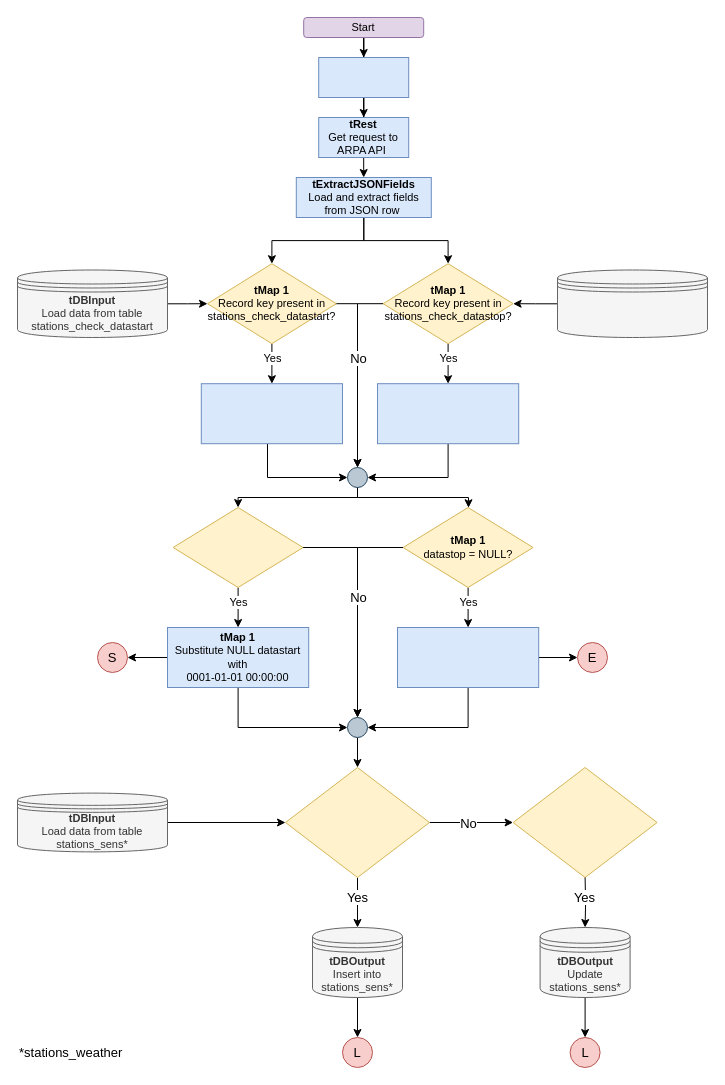
The diagram is 725 pixels wide and 1085 high, and some of its shapes have lost their labels. The shapes that lost their labels are listed below. From the top down, each one's centre as x and y in pixels, then its label:
At (363,77): "tDBCnnection Start DB connection".
At (632,303): "tDBInput Load data from table stations_check_datastop".
At (271,413): "tMap 1 Set datastart value to value in stations_check_datastart".
At (447,413): "tMap 1 Set datastop value to value in stations_check_datastop".
At (237,547): "tMap 1 datastart = NULL?".
At (467,657): "tMap 1 Substitute NULL datastop with 9999-12-31 00:00:00".
At (357,822): "tMap 1 Record key present in API but not in DB table?".
At (584,822): "tMap 1 Non-key fields different in API vs DB table?".
